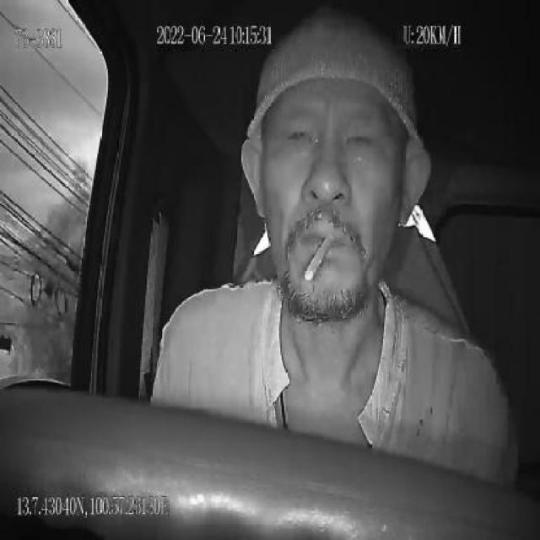smoking: (302, 232, 334, 284)
